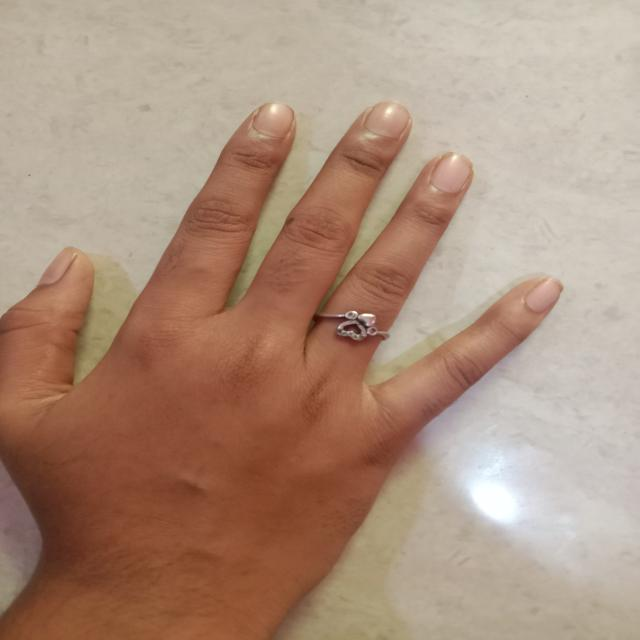nail: (364, 101, 411, 139), (36, 247, 77, 287), (430, 154, 470, 193), (252, 103, 294, 138), (524, 279, 561, 313)
